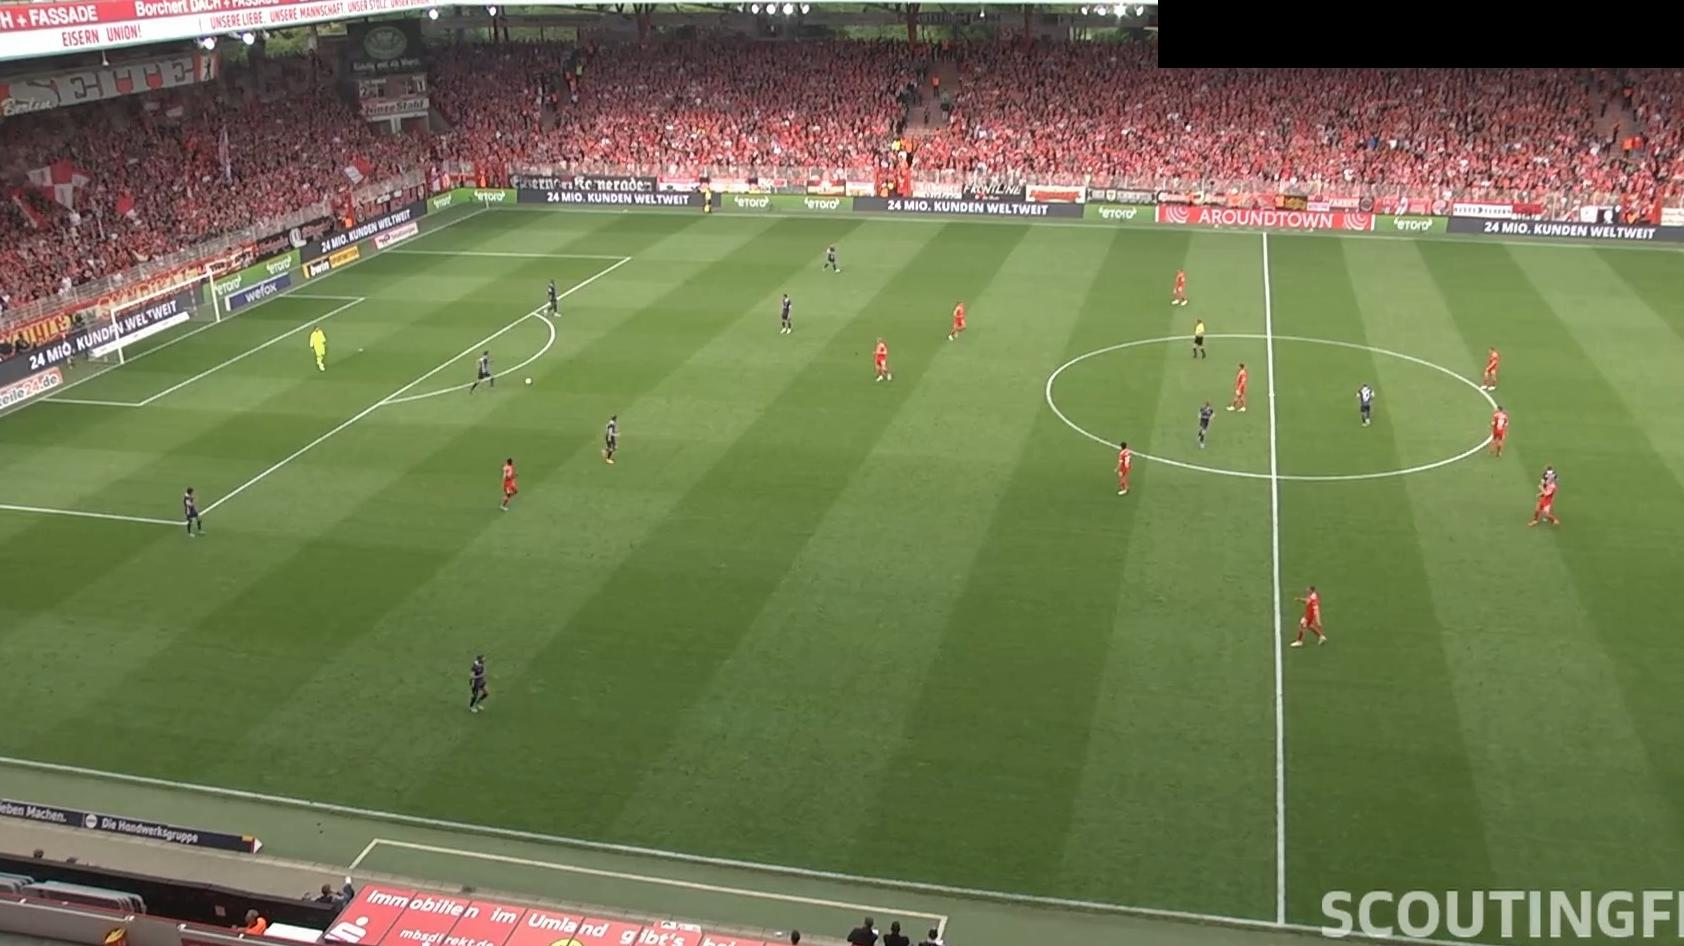ball: (524, 376, 533, 386)
